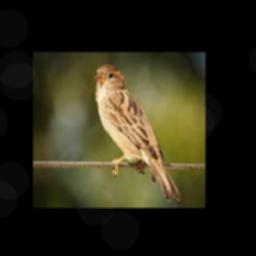Sparrow: (95, 64, 182, 202)
